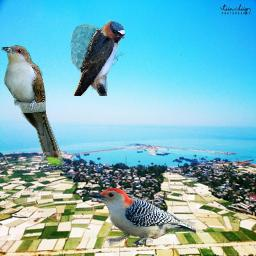Cuckoo: (1, 45, 63, 166)
Swallow: (70, 20, 125, 96)
Woodpecker: (86, 188, 196, 248)
